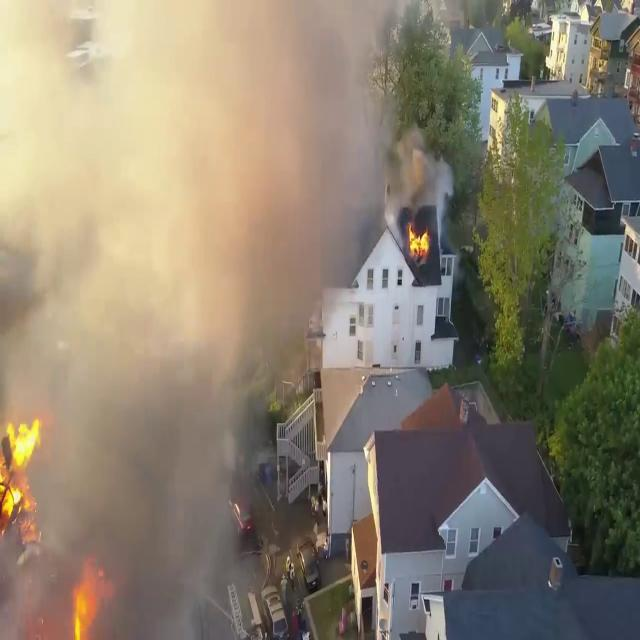Fire: (0, 404, 48, 542), (65, 556, 113, 638), (406, 219, 432, 261)
Smoke: (0, 1, 274, 615), (199, 0, 462, 249)
